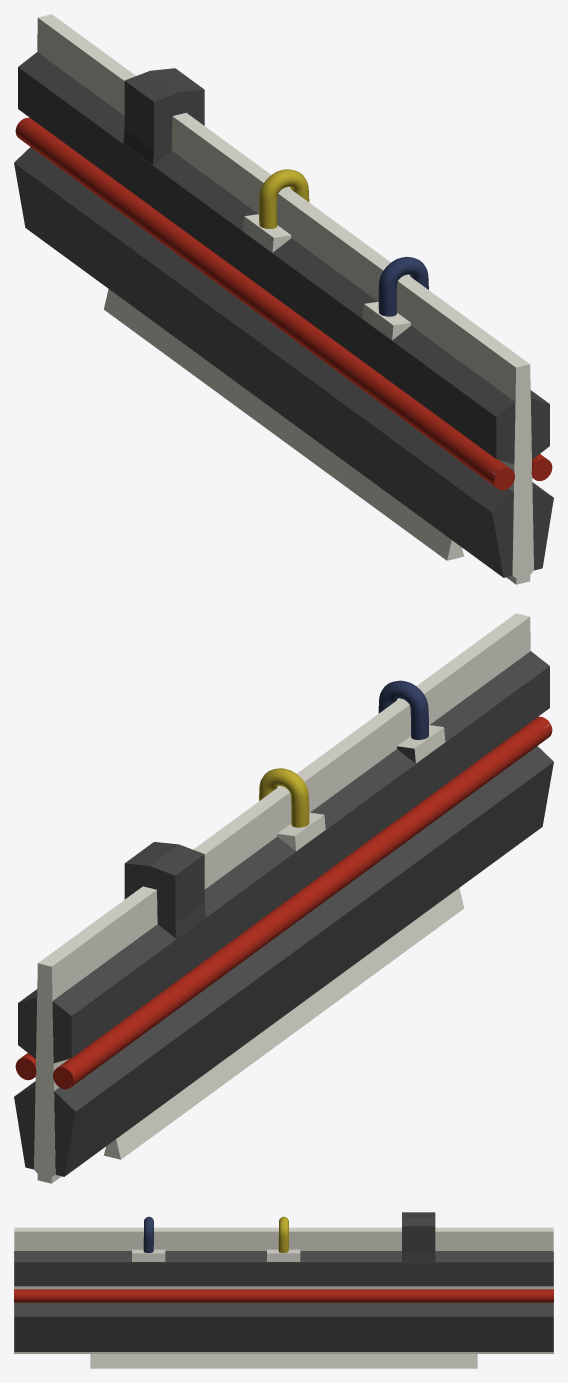
Rendered from Valla 1.fbx.
3 renders of one model, top to bottom at view 1: azimuth 30°, elevation 25°; view 2: azimuth 150°, elevation 25°; view 3: azimuth 270°, elevation 25°, orthographic. The views are drawn at different scales.
Parts seen in each view (by area): view 1: Cube.005; view 2: Cube.005; view 3: Cube.005.
Part boxes in pixels (x1=…): Cube.005: x1=14, y1=14, x2=553, y2=584; Cube.005: x1=14, y1=613, x2=553, y2=1183; Cube.005: x1=14, y1=1212, x2=553, y2=1368.
Bounding box in the file's own units: 59.52 × 244 × 800.
1 material, 1 textured.
